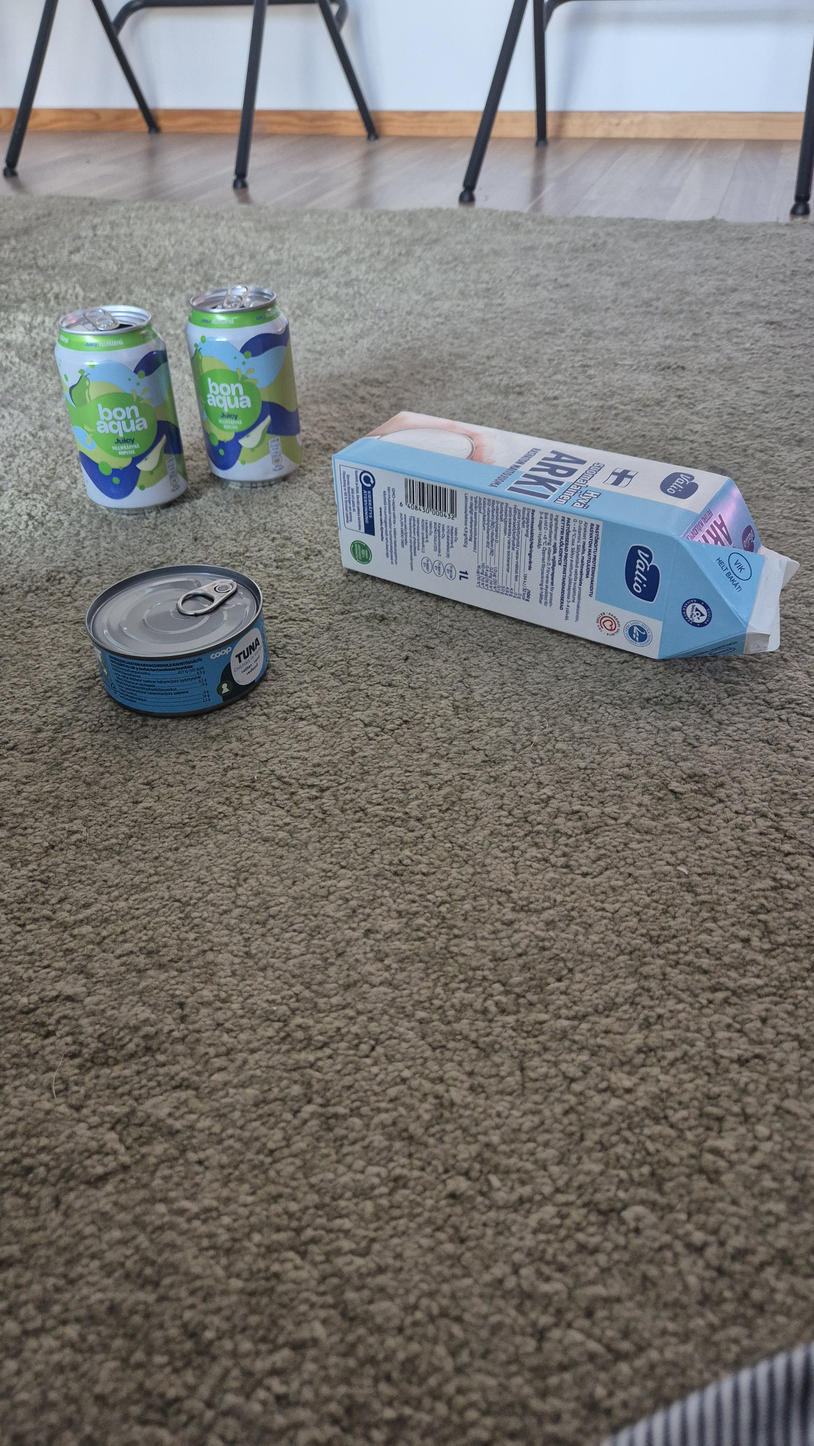Dryckeskartong: (331, 411, 800, 660)
Konservburk: (85, 565, 269, 719)
Pantburk: (55, 305, 188, 514), (186, 285, 303, 488)
